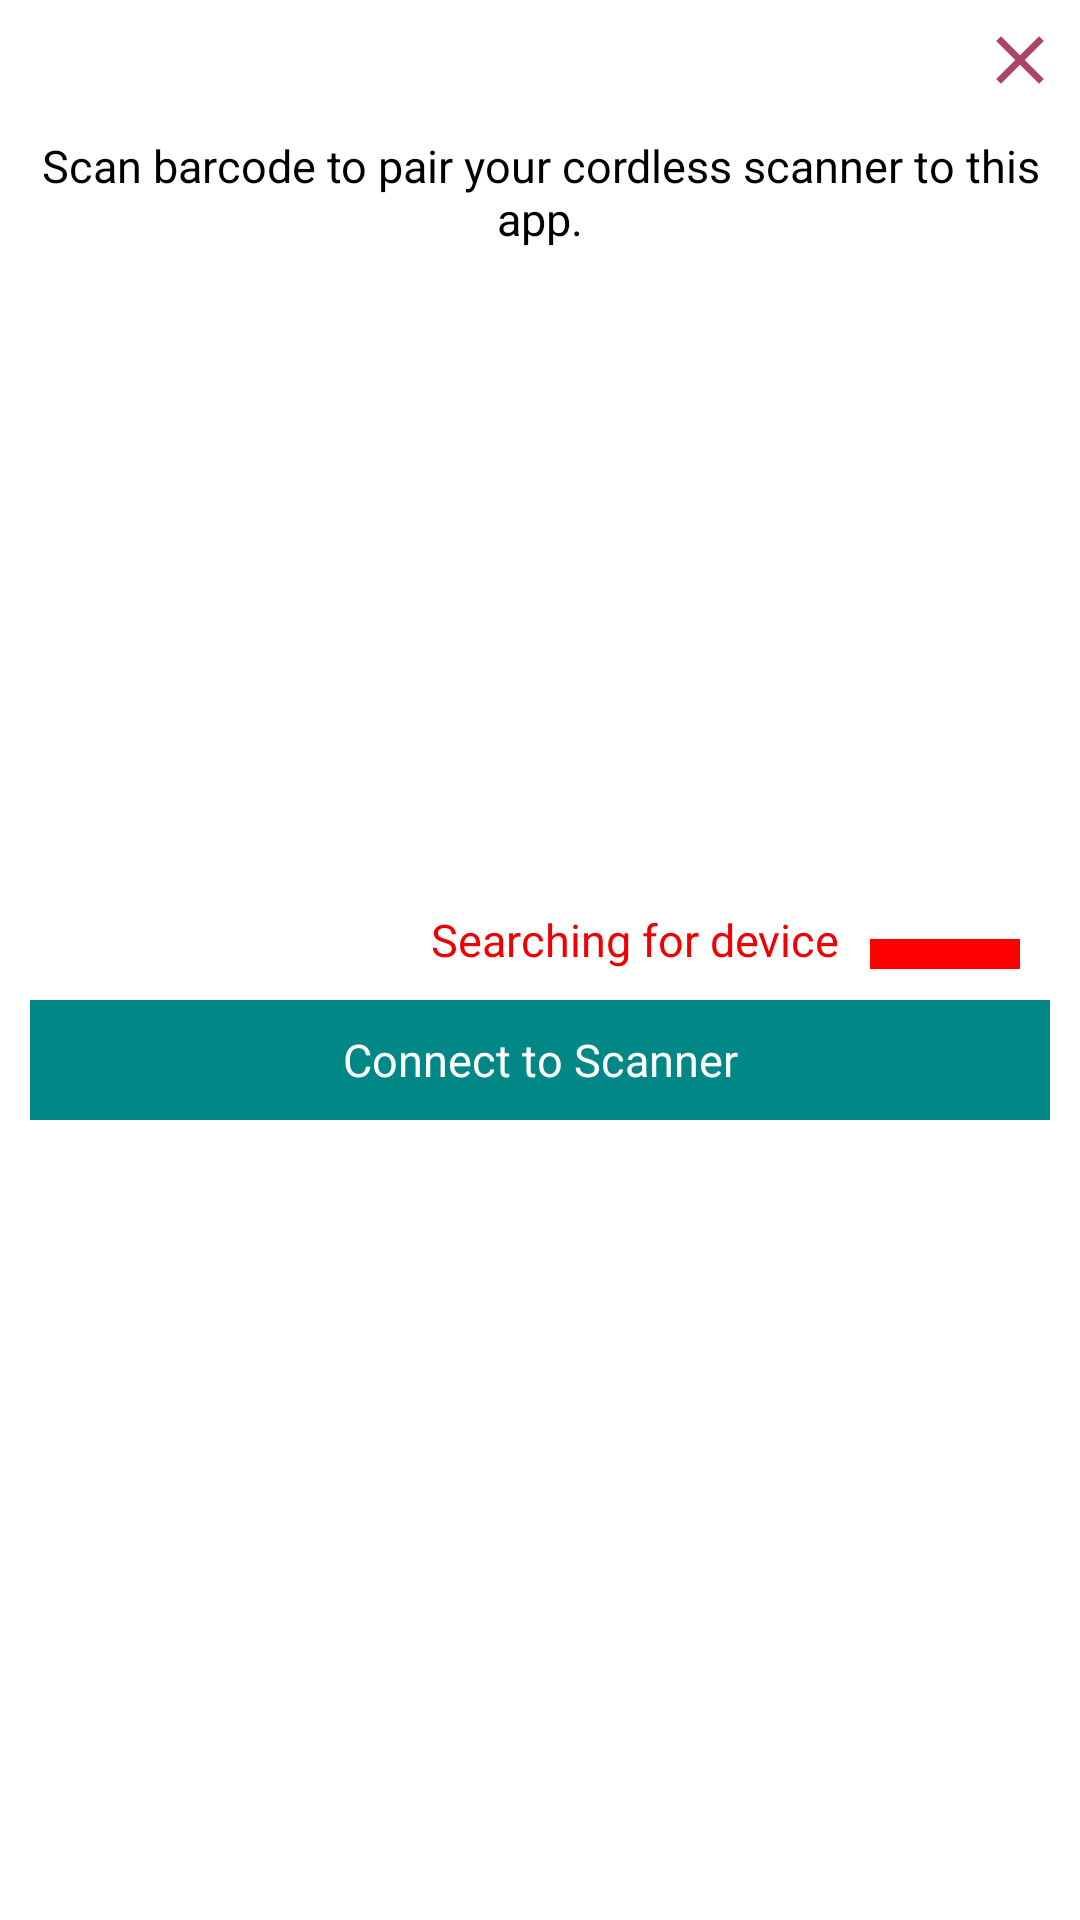

Icon bounding boxes for this 1080px x 1920px phone screenshot, format (x1, y1, x2, y2):
button close: (996, 36, 1044, 84)
